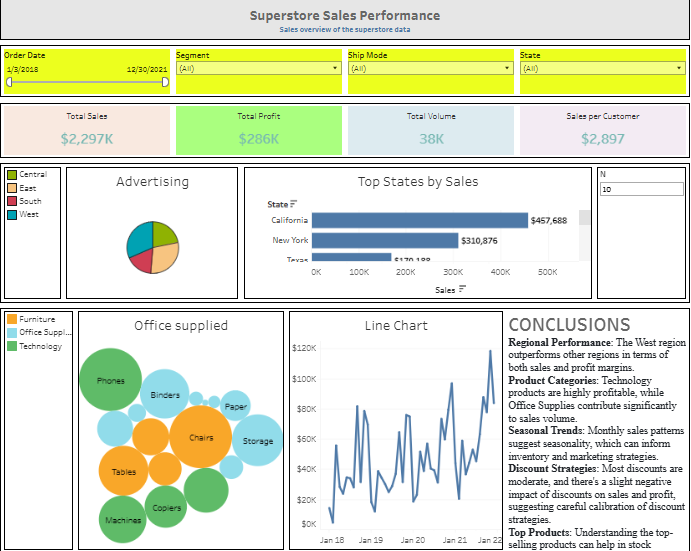

The page's visual inventory and layout, read from the dashboard file:
{"tool":"tableau","page":{"name":"Sales Dashboard","canvas":[1055,850],"ordinal":3},"visuals":[{"type":"text","box":[12,14.8,1032,59]},{"type":"filter","title":"Total Sales","param":"[federated.0r0mmrk0bmu0nh1e8jor21cc0so0].[none:Order Date:qk]","box":[12,84,258,76]},{"type":"filter","title":"Total Sales","param":"[federated.0r0mmrk0bmu0nh1e8jor21cc0so0].[none:Segment:nk]","box":[270,84,258,76]},{"type":"filter","title":"Total Sales","param":"[federated.0r0mmrk0bmu0nh1e8jor21cc0so0].[none:Ship Mode:nk]","box":[528,84,258,76]},{"type":"filter","title":"Total Sales","param":"[federated.0r0mmrk0bmu0nh1e8jor21cc0so0].[none:State:nk]","box":[786,84,258,76]},{"type":"worksheet","title":"Total Sales","mark":"Automatic","box":[12,169.8,257.7,81]},{"type":"worksheet","title":"Total Profit","mark":"Automatic","box":[269.8,169.8,257.7,81]},{"type":"worksheet","title":"Total Volume","mark":"Automatic","box":[527.5,169.8,258.7,81]},{"type":"worksheet","title":"Sales per Customer","mark":"Automatic","box":[786.2,169.8,257.7,81]},{"type":"legend","title":"Pie Chart","param":"[federated.0r0mmrk0bmu0nh1e8jor21cc0so0].[none:Region:nk]","box":[12,260.8,94,207]},{"type":"worksheet","title":"Pie Chart","mark":"Pie","box":[106,260.8,266,207]},{"type":"worksheet","title":"Bar Chart","mark":"Automatic","rows":["State"],"cols":["Sales"],"box":[372,260.8,530,207]},{"type":"parameter","param":"[Parameters].[Sales Parameter]","box":[902,260.8,142,207]},{"type":"legend","title":"Bubble Chart","param":"[federated.0r0mmrk0bmu0nh1e8jor21cc0so0].[none:Category:nk]","box":[12,477.8,112,366]},{"type":"worksheet","title":"Bubble Chart","mark":"Circle","box":[124,477.8,316,366]},{"type":"worksheet","title":"Line Chart","mark":"Automatic","rows":["Sales"],"cols":["Order Date"],"box":[440,477.8,328,366]},{"type":"text","box":[768,477.8,276,366]}]}

Visuals, with their boxes in screenshot pixels (x1, y1, x2, y2), scaled from the page's 1055x850 canvas onto the 691x551 screenshot:
text: box=[8, 10, 684, 48]
"Total Sales" filter: box=[8, 54, 177, 104]
"Total Sales" filter: box=[177, 54, 346, 104]
"Total Sales" filter: box=[346, 54, 515, 104]
"Total Sales" filter: box=[515, 54, 684, 104]
"Total Sales" worksheet: box=[8, 110, 177, 163]
"Total Profit" worksheet: box=[177, 110, 346, 163]
"Total Volume" worksheet: box=[346, 110, 515, 163]
"Sales per Customer" worksheet: box=[515, 110, 684, 163]
"Pie Chart" legend: box=[8, 169, 69, 303]
"Pie Chart" worksheet (Pie marks): box=[69, 169, 244, 303]
"Bar Chart" worksheet: box=[244, 169, 591, 303]
parameter: box=[591, 169, 684, 303]
"Bubble Chart" legend: box=[8, 310, 81, 547]
"Bubble Chart" worksheet (Circle marks): box=[81, 310, 288, 547]
"Line Chart" worksheet: box=[288, 310, 503, 547]
text: box=[503, 310, 684, 547]
